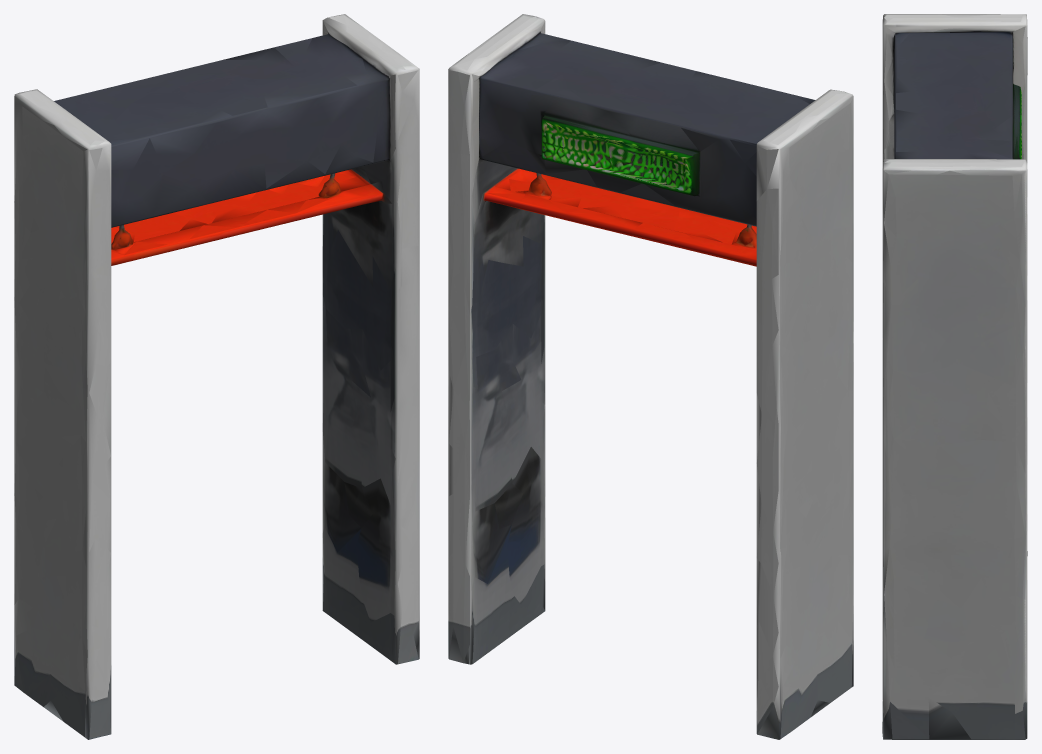
The model's file is quit.fbx.
3 renders of one model, left to right at view 1: azimuth 30°, elevation 25°; view 2: azimuth 150°, elevation 25°; view 3: azimuth 270°, elevation 25°, orthographic. The views are drawn at different scales.
Parts seen in each view (by area): view 1: tripo_node_0cc8745f; view 2: tripo_node_0cc8745f; view 3: tripo_node_0cc8745f.
Boxes of the visible parts, x1=… form: tripo_node_0cc8745f: x1=14, y1=14, x2=419, y2=739; tripo_node_0cc8745f: x1=448, y1=14, x2=853, y2=739; tripo_node_0cc8745f: x1=882, y1=14, x2=1027, y2=739.
Size of the model in its own units: 58.73 by 100 by 22.99.
1 material, 1 textured.
